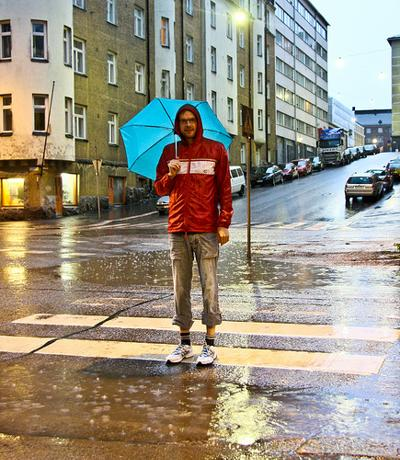person: (154, 105, 234, 368)
